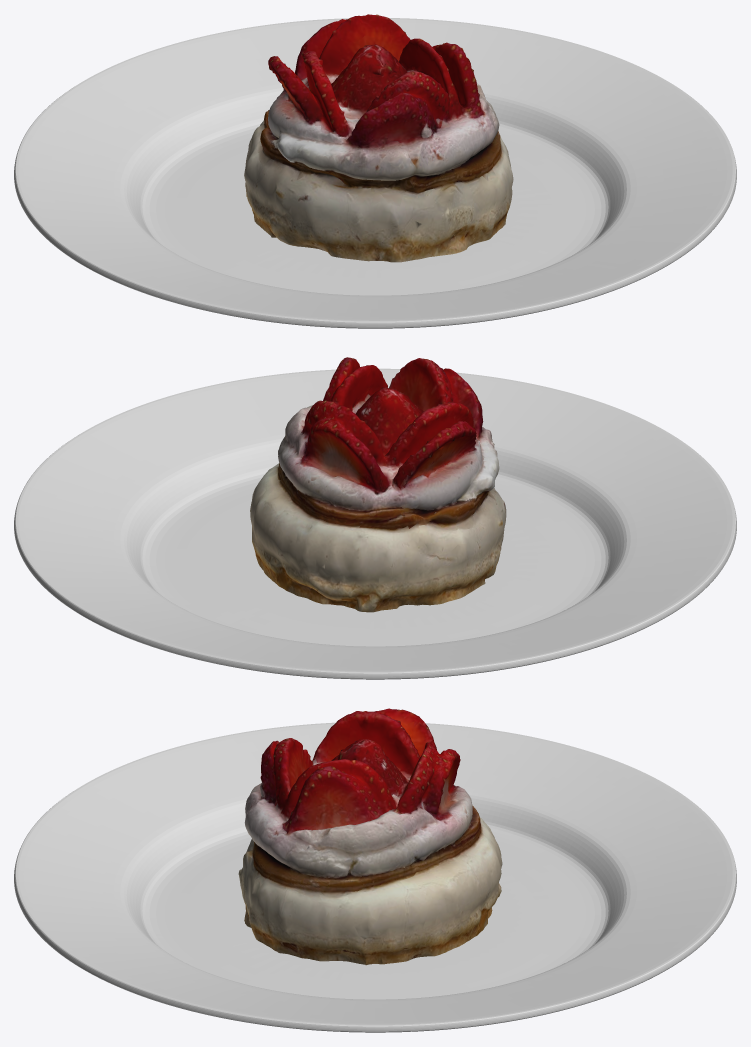
The model's file is pavlova+plate  low-poly cleaned up, resized, compressed 7.31.25.glb.
The picture shows the model from 3 angles, top to bottom: view 1: azimuth 30°, elevation 25°; view 2: azimuth 150°, elevation 25°; view 3: azimuth 270°, elevation 25°; orthographic projection.
Visible parts, largest first — view 1: 3DModel_LowPoly; view 2: 3DModel_LowPoly; view 3: 3DModel_LowPoly.
Boxes of the visible parts, x1,y1,x2,y2 form: 3DModel_LowPoly: [14, 14, 736, 328]; 3DModel_LowPoly: [14, 357, 736, 679]; 3DModel_LowPoly: [14, 708, 736, 1032].
Bounding box in the file's own units: 0.2192 × 0.0601 × 0.2192.
2 materials, 1 textured.
